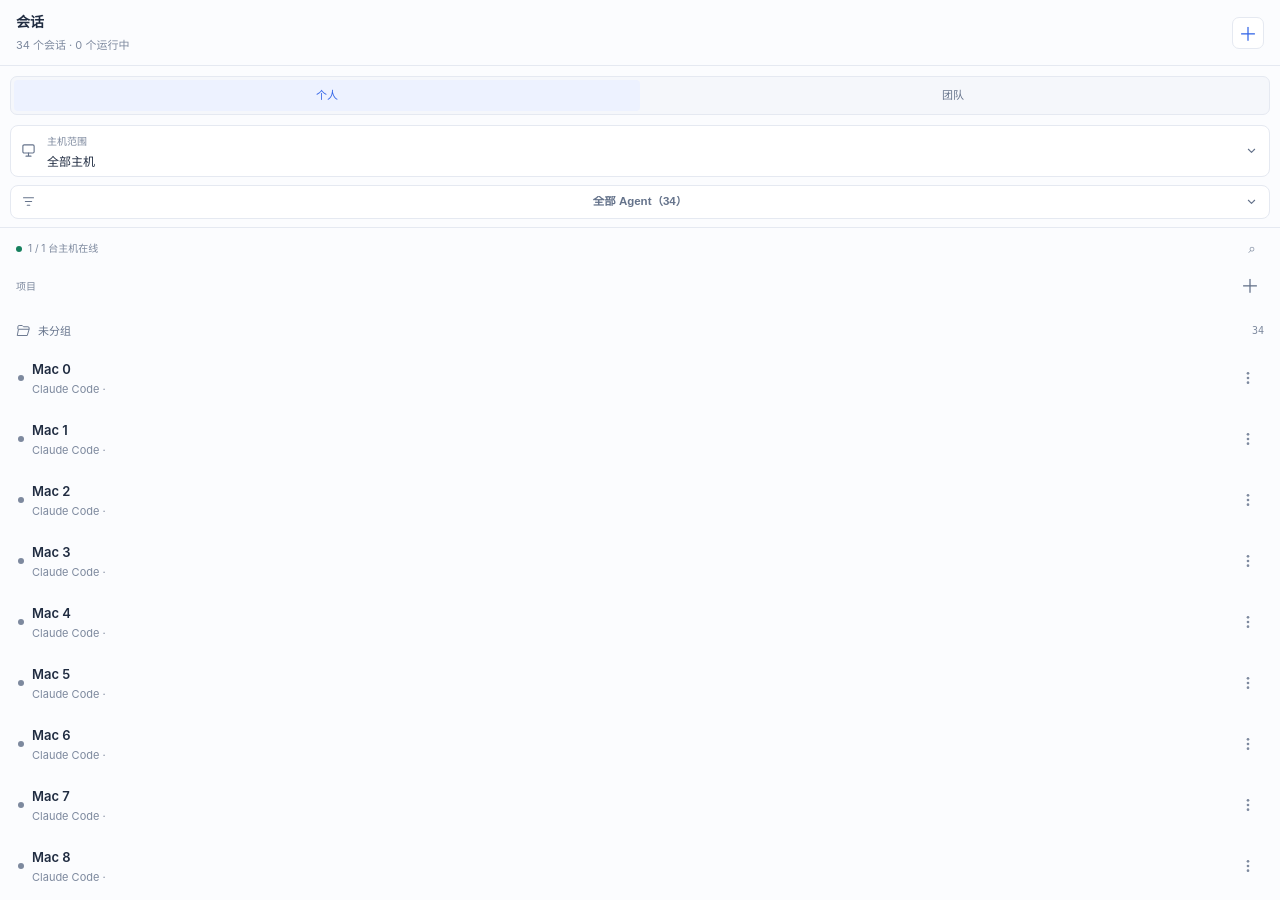
Test: retains the personal host selector with one host and reports full counts beyond the first page
The width and height of the screenshot is (1280, 900).
Expected: the text "34 个会话 · 0 个运行中" is shown, [16, 37, 129, 54]
Click the button with class "host-trigger": [67, 141] box [10, 124, 1270, 176]
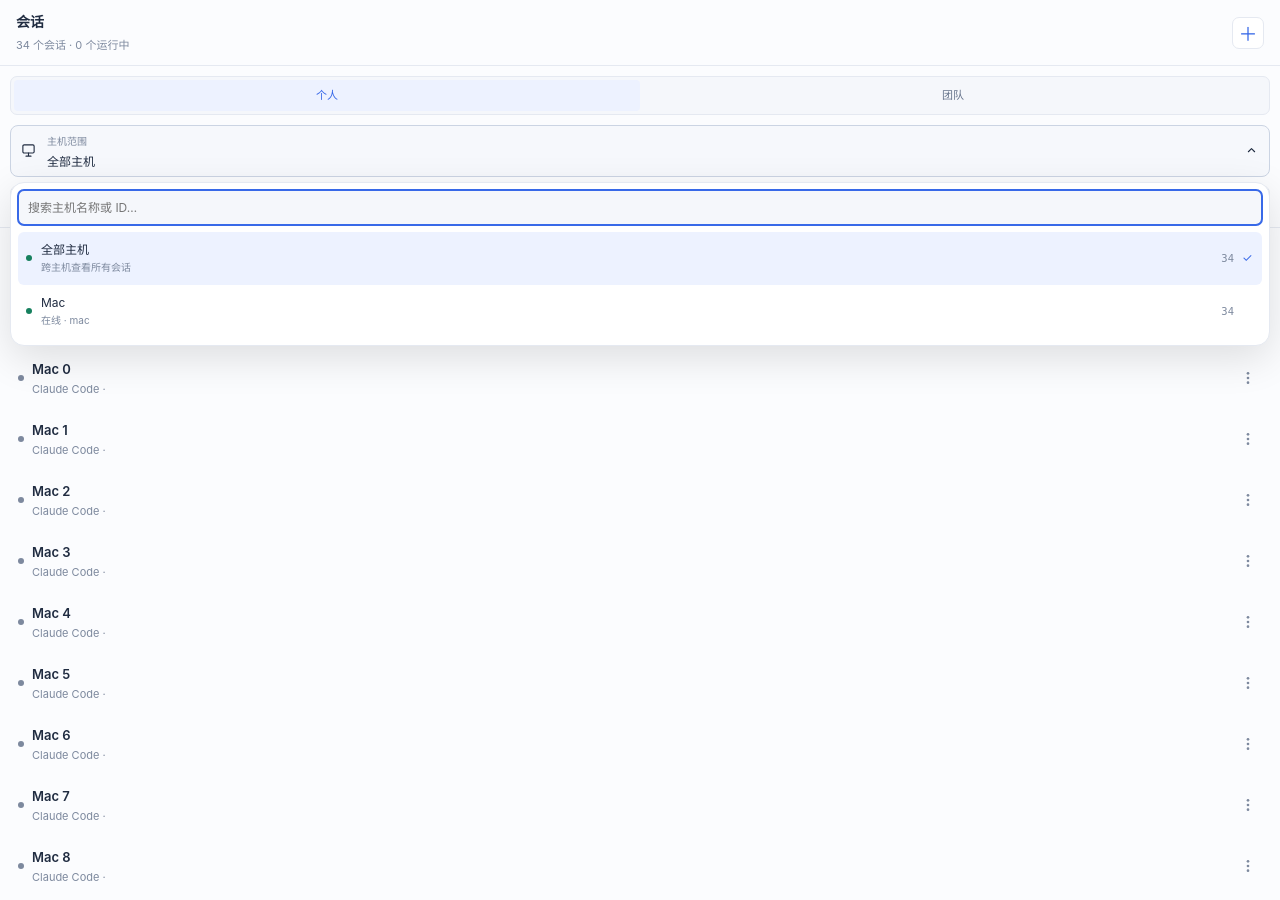
Now the 2nd text with class "filter-count" reads "34", box [1221, 305, 1234, 317]
Now the 1st text with class "filter-count" reads "34", box [1221, 252, 1234, 264]
Click the button "Mac 在线 · mac 34": [65, 320] box [18, 284, 1262, 338]
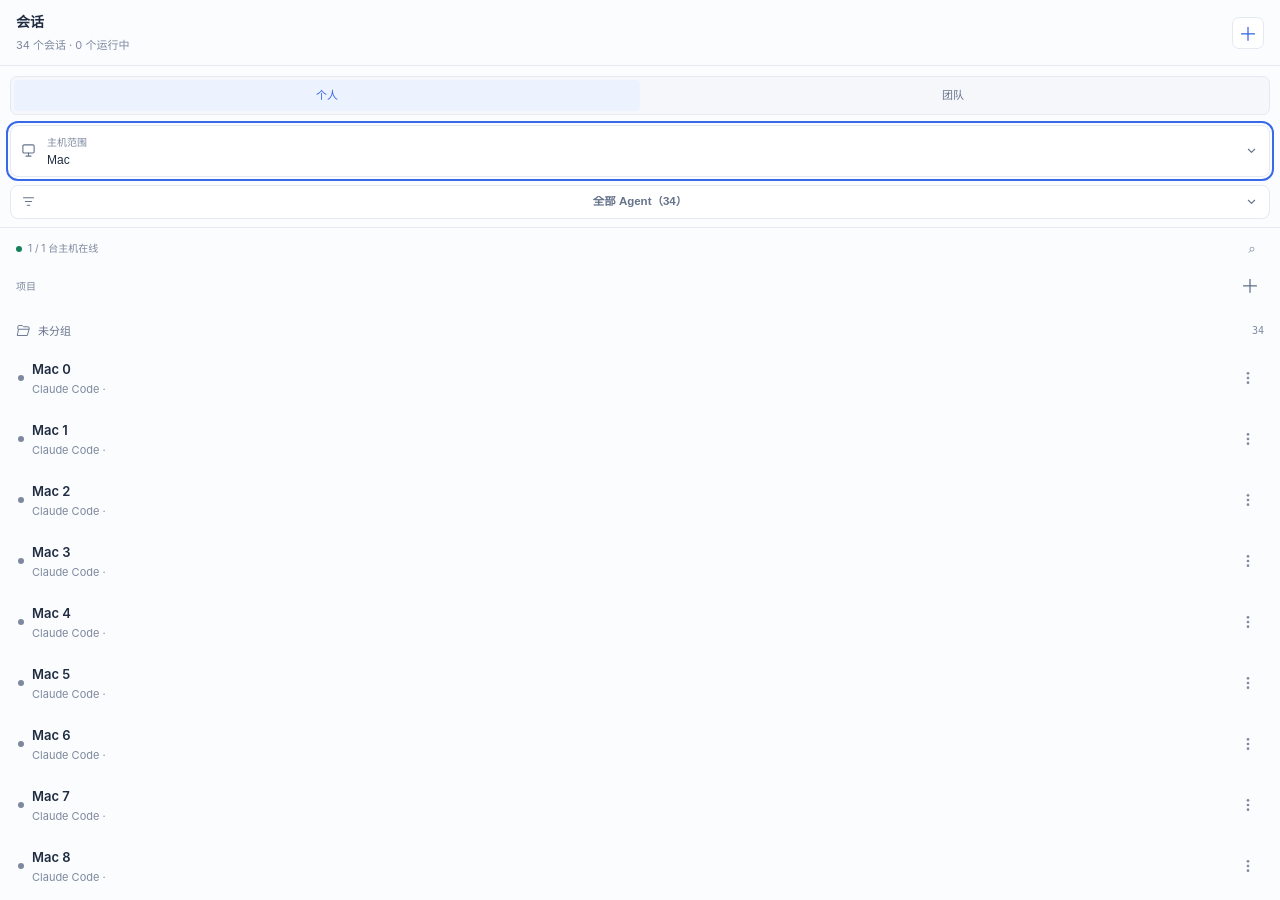
Now the button with class "host-trigger" shows "Mac", box [10, 124, 1270, 176]
